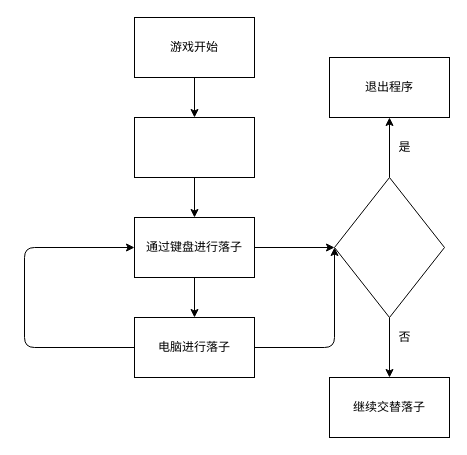
Some shapes in this 467 by 455 pixel diagram are drawn without their labels. The box of each missing label's shape, as (x1, y1, x2, y2) in pixels:
判断是否胜利: (334, 176, 444, 318)
选择白棋或者黑棋: (134, 116, 254, 178)
